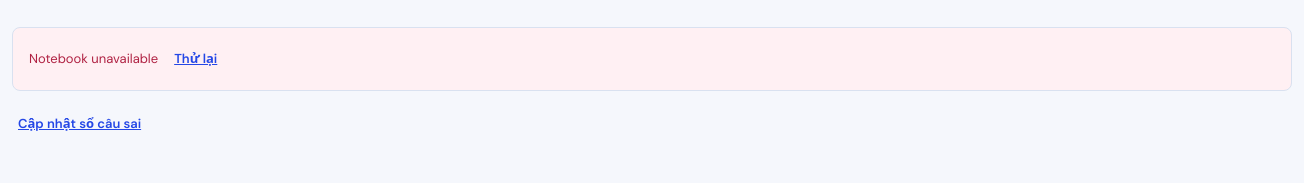
Test case: mistake notebook › separates a network failure from an empty successful notebook and supports retry
Expected: the message "Notebook unavailable Thử lại" is shown, [12,27,1292,91]
Click the button "Thử lại".
click(196, 59)  # box [168,41,223,77]
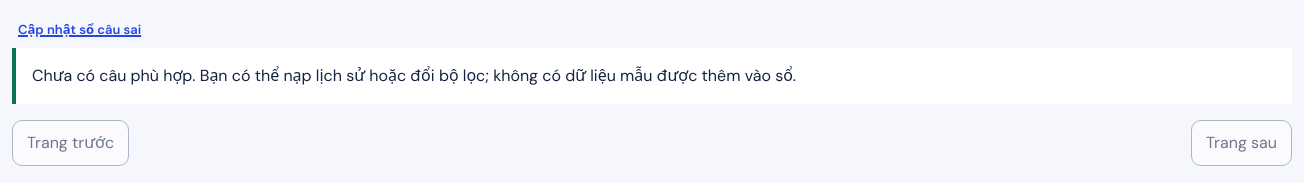
Now the text with class "card-empty" shows "Chưa có câu phù hợp", box [32,65,796,86]
